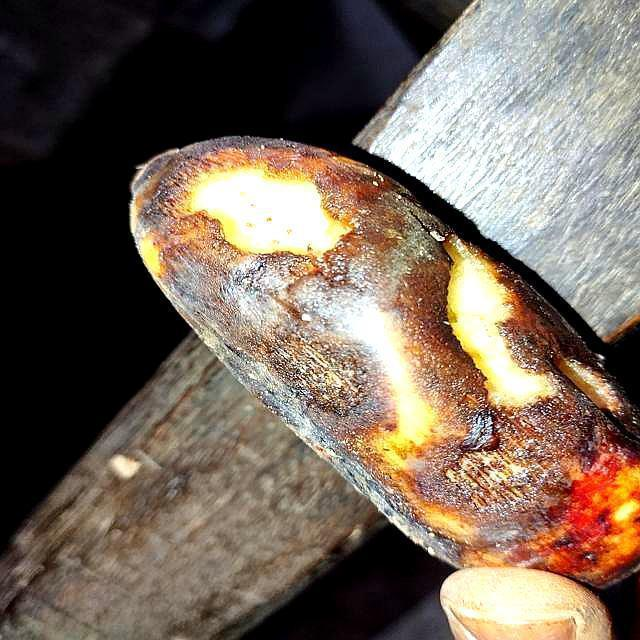Biodegradable: (48, 64, 640, 640)
